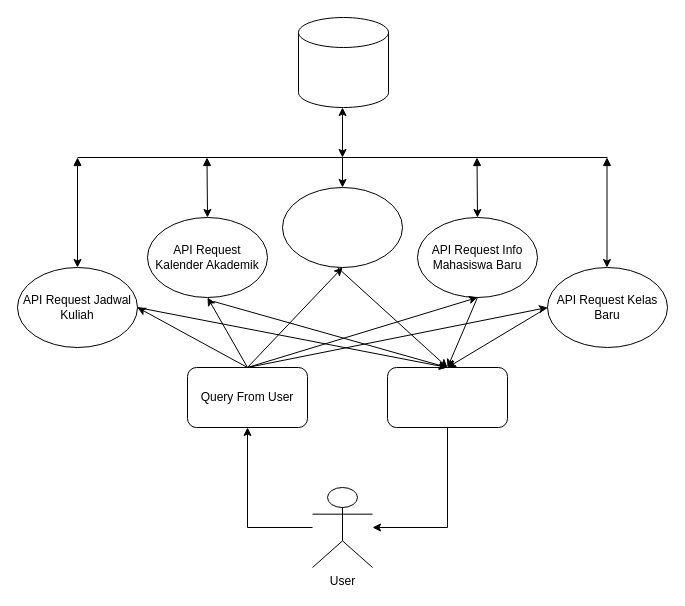
Image size: 685x606. Some labels were removed from this diagram. Here are the shapes that lost their labels. From the top down, the centre of each, then its label:
At point 343,62: "Website BAAK Gunadarma".
At point 342,227: "API Request Jadwal Ujian".
At point 447,397: "Message From API".
